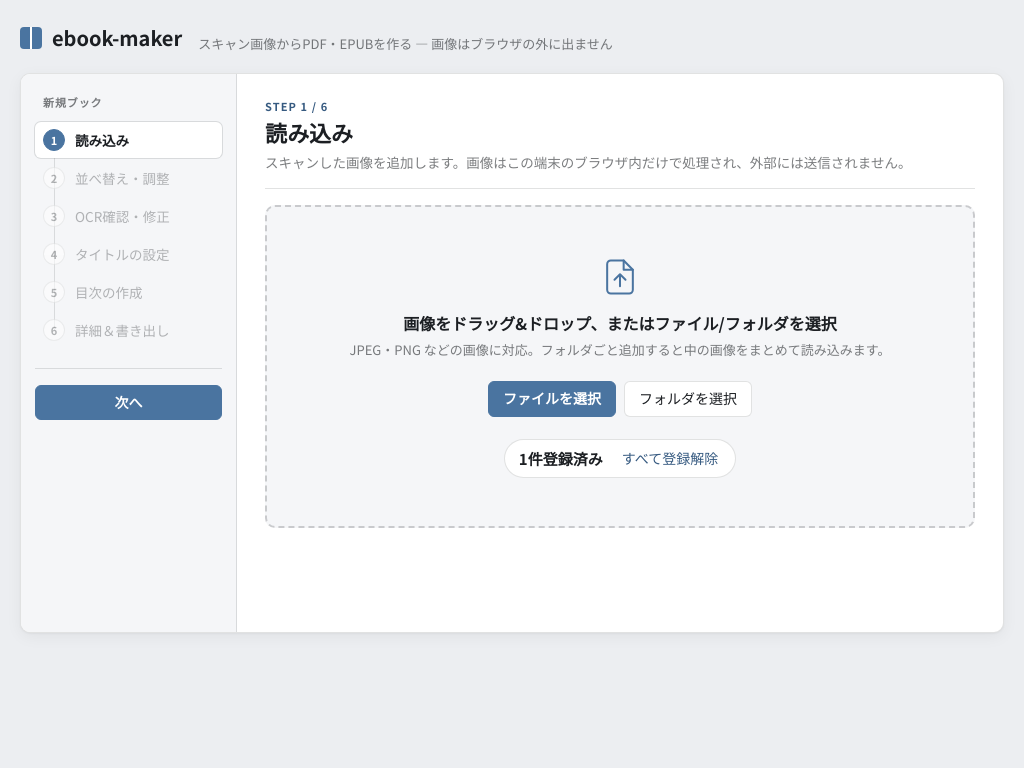
Scenario: App › advances to the 並べ替え・調整 step and shows the page list and merge action
The width and height of the screenshot is (1024, 768).
Click the button "次へ" at x=128, y=403, box top-left (35, 385), bottom-right (222, 420)
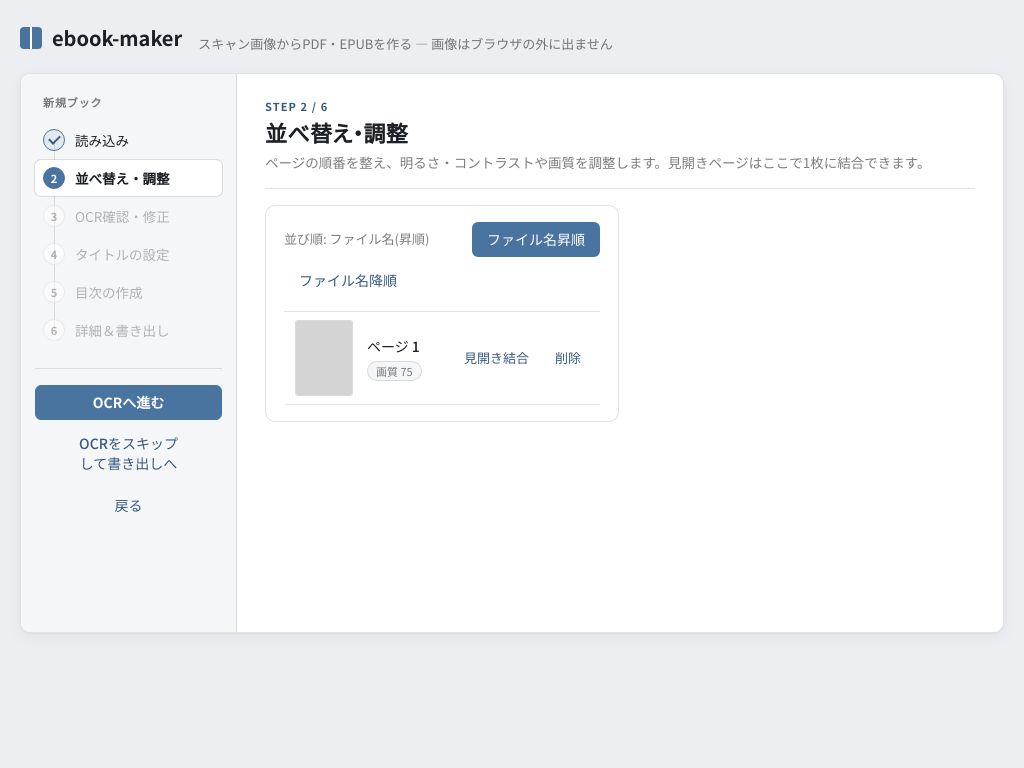
Result: the button "見開き結合" is shown at top-left (453, 343), bottom-right (540, 373)
